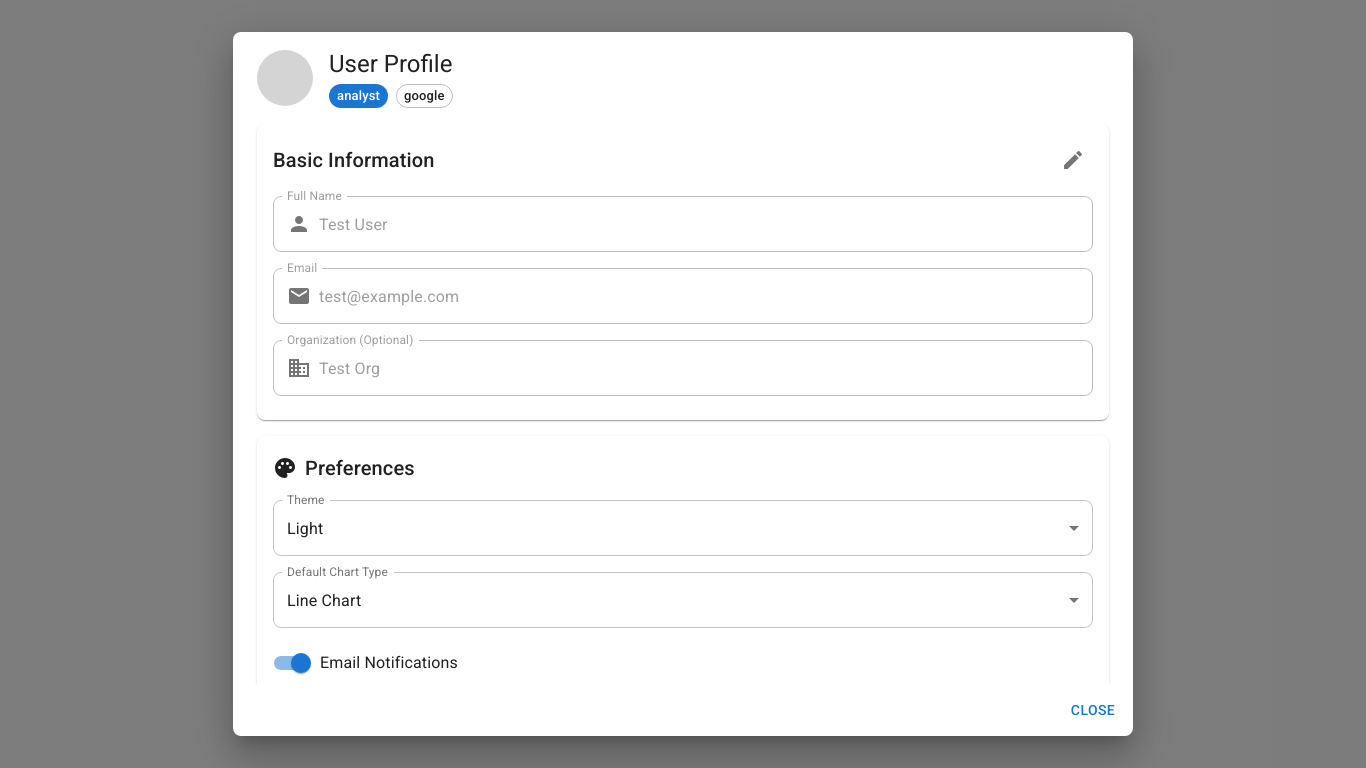
Test: UserProfile Preferences › should allow theme selection without edit mode
# Use fireEvent instead of userEvent for Material-UI Select
Press the mouse on the dropdown named "Theme" at point(305, 528), box [287, 518, 323, 538]
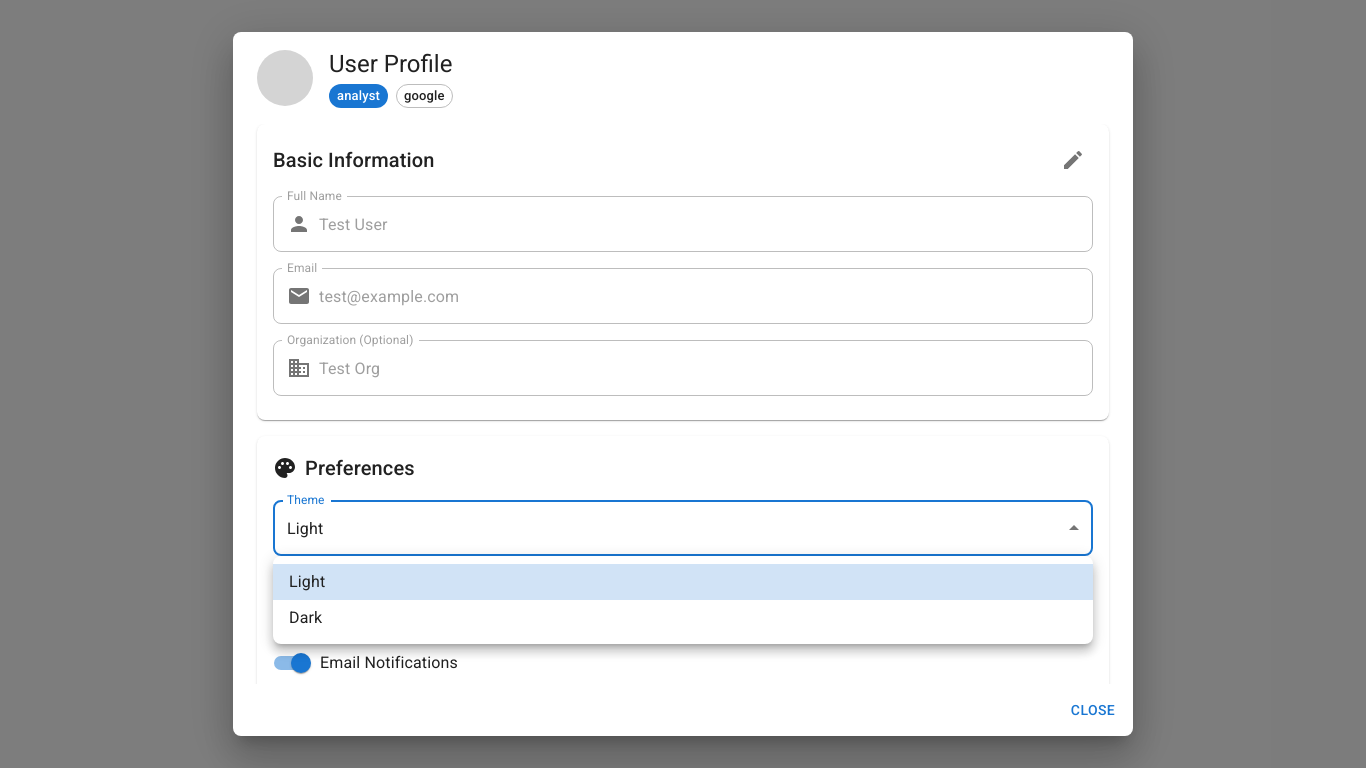
Click the option "Dark" at point(306, 618), box [289, 608, 322, 627]
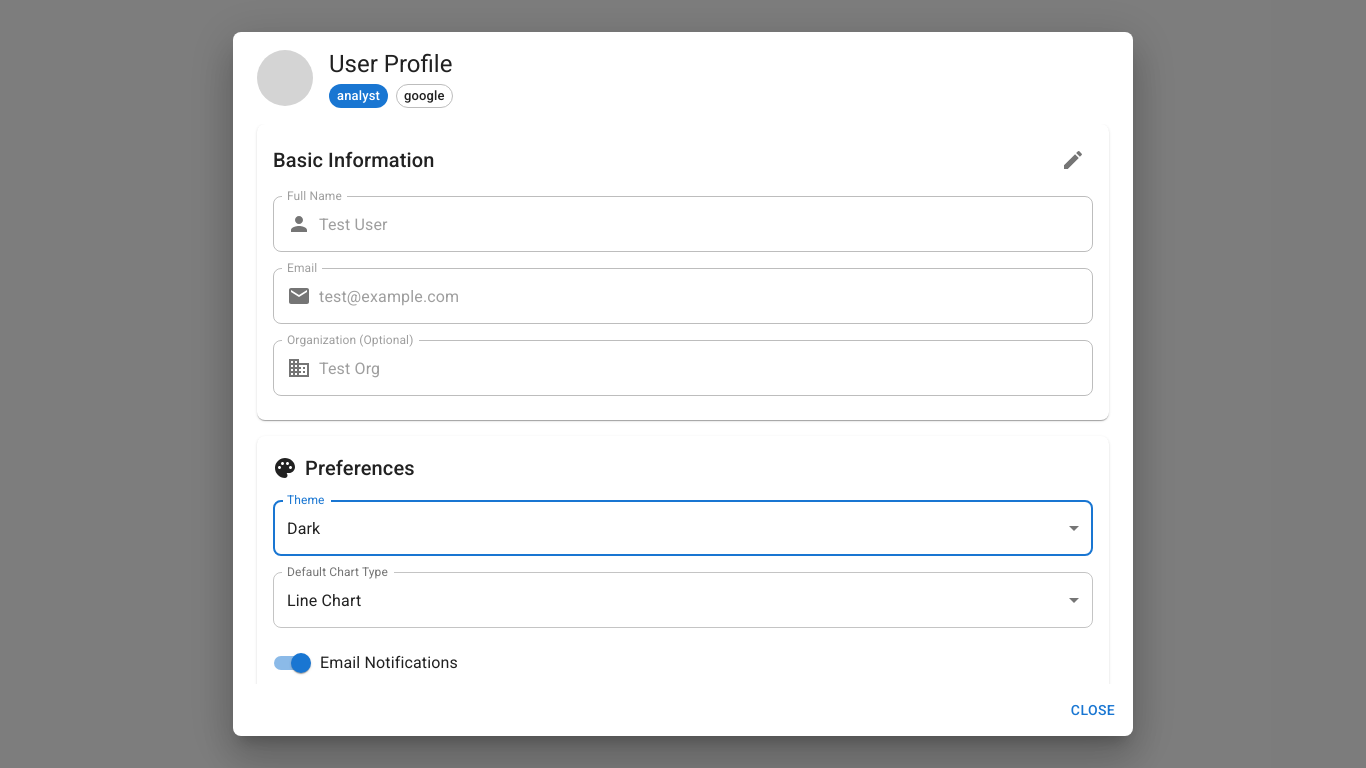
Expected: the element showing "dark" is shown, [273, 500, 1093, 556]
